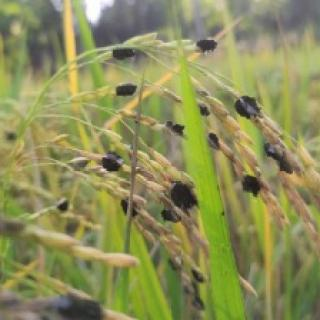Gosong-Palsu: (170, 180, 196, 213), (101, 151, 121, 170), (243, 174, 260, 196), (197, 39, 216, 51), (114, 49, 134, 59)
